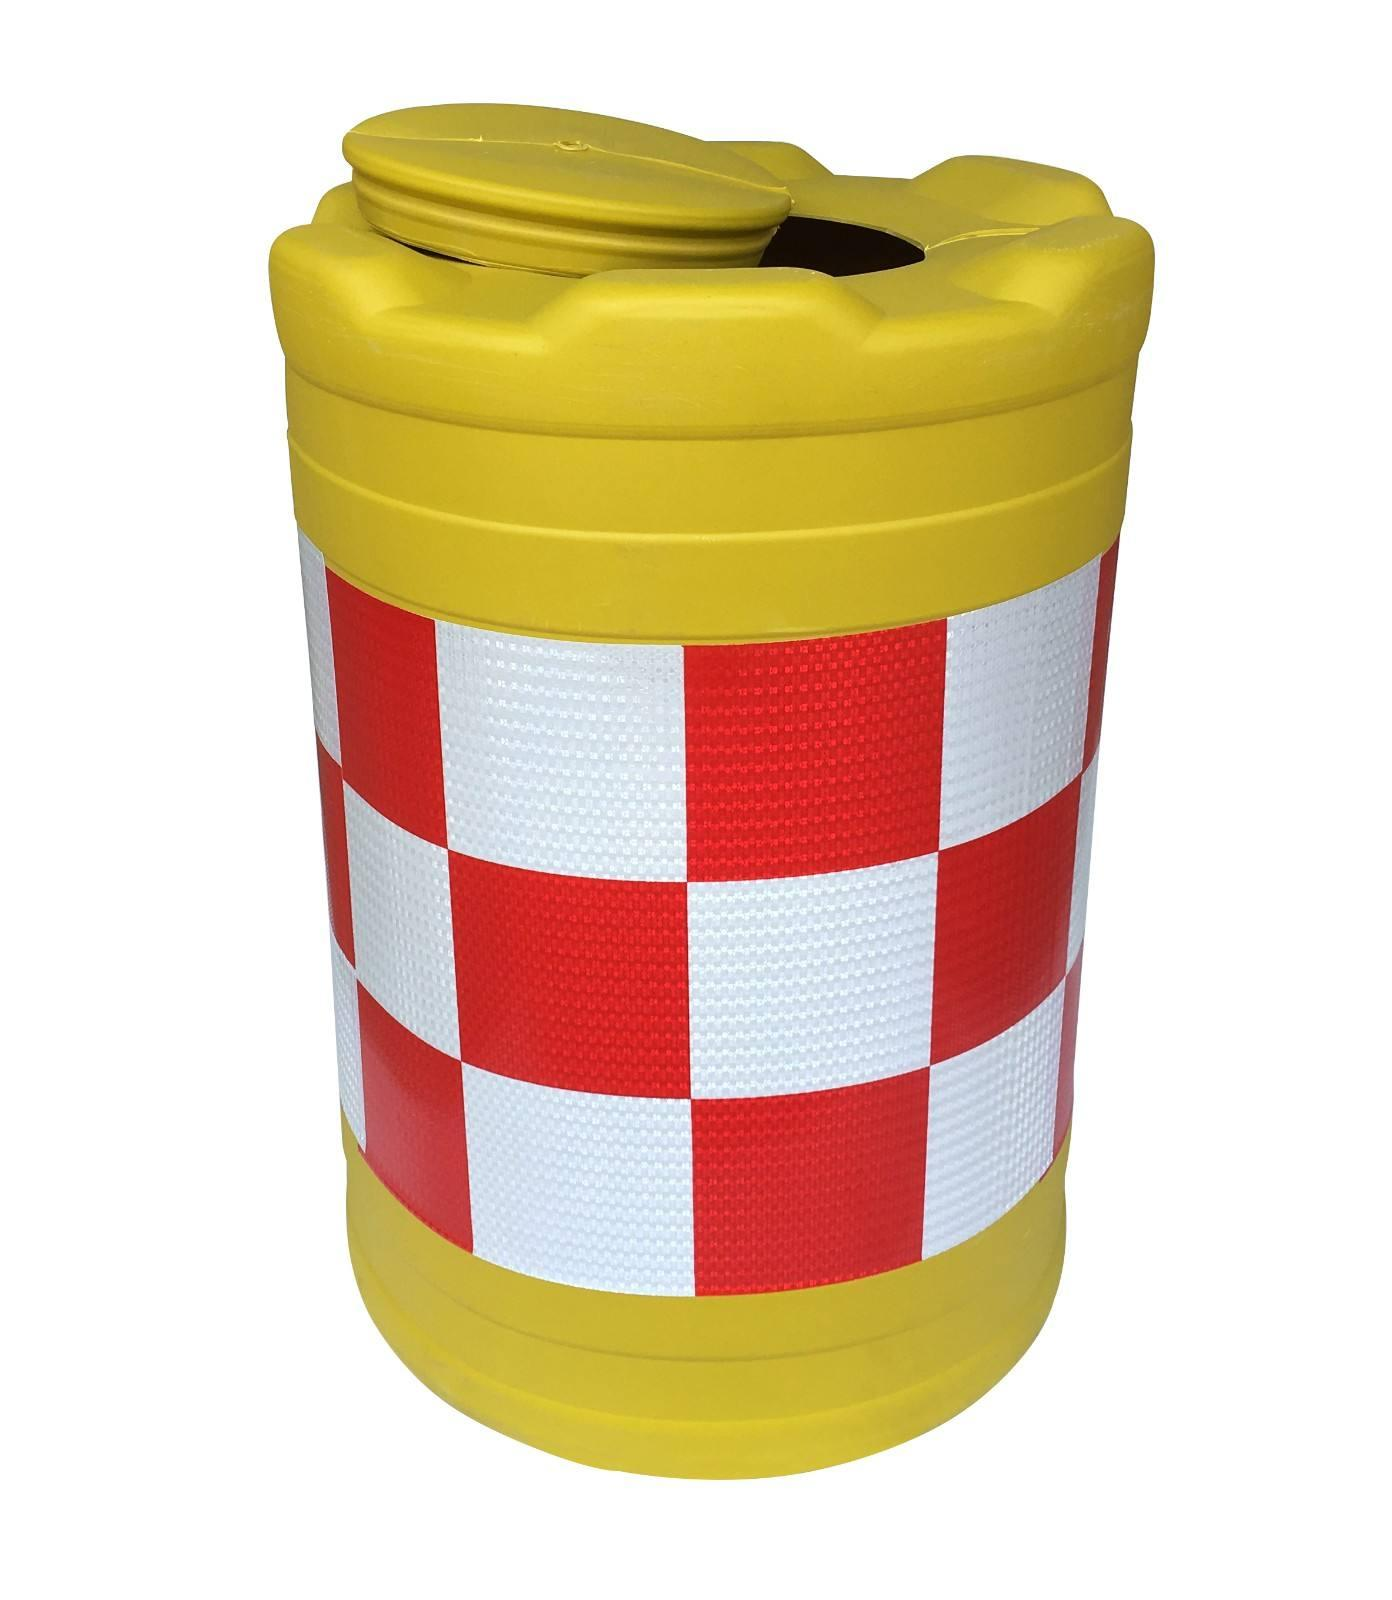sign: (237, 67, 1147, 1498)
